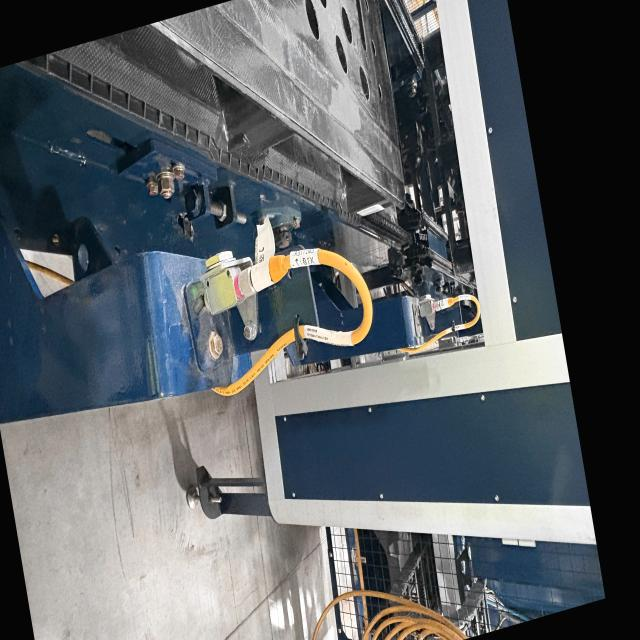igps: (11, 0, 408, 231)
